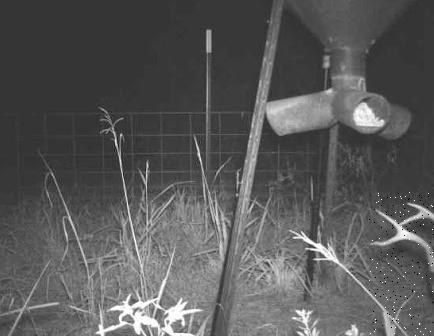Deer: (369, 191, 434, 336)
